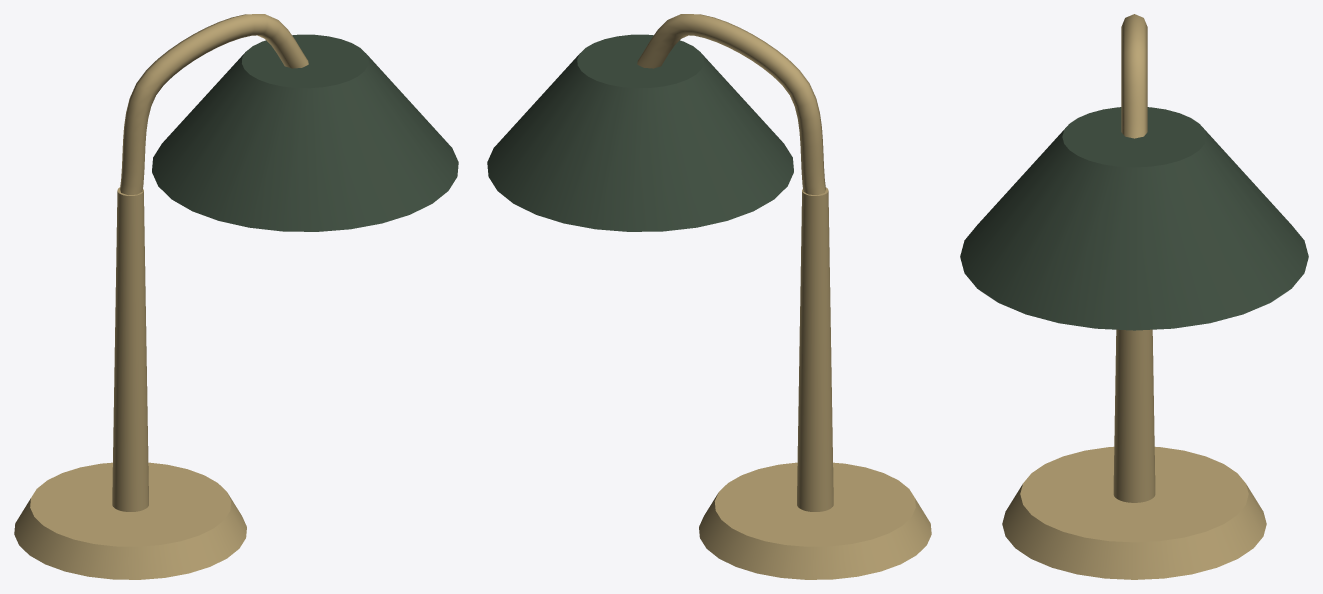
Rendered from lamp.glb.
3 renders of one model, left to right at view 1: azimuth 30°, elevation 25°; view 2: azimuth 150°, elevation 25°; view 3: azimuth 270°, elevation 25°, orthographic. The views are drawn at different scales.
Parts seen in each view (by area): view 1: lamp; view 2: lamp; view 3: lamp.
Part boxes in pixels (x1,y1,x2,y2): lamp: (14, 14, 458, 579); lamp: (487, 14, 931, 579); lamp: (960, 14, 1308, 579).
Size of the model in its own units: 0.89 by 1.01 by 0.58.
